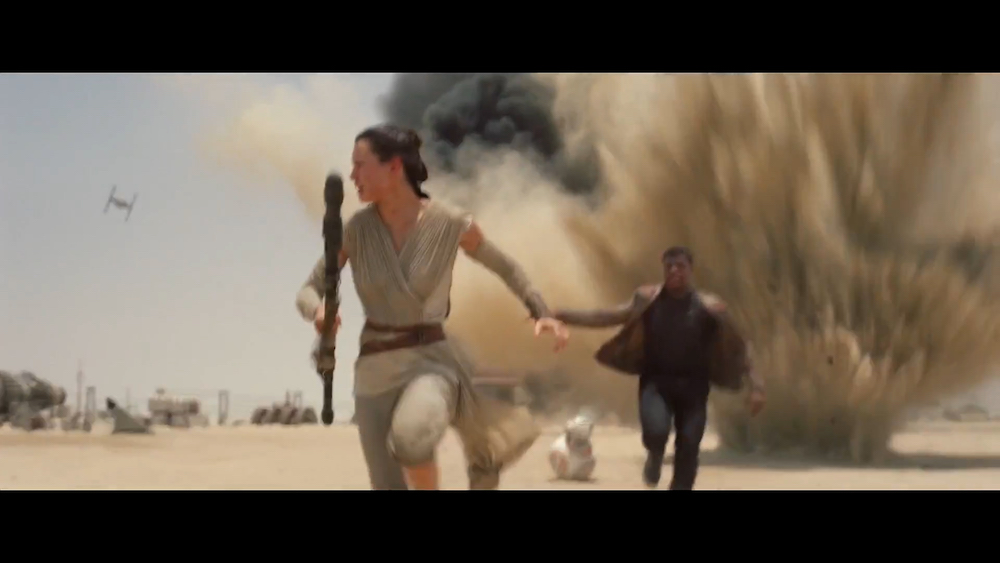Tie Fighter: (104, 185, 140, 223)
